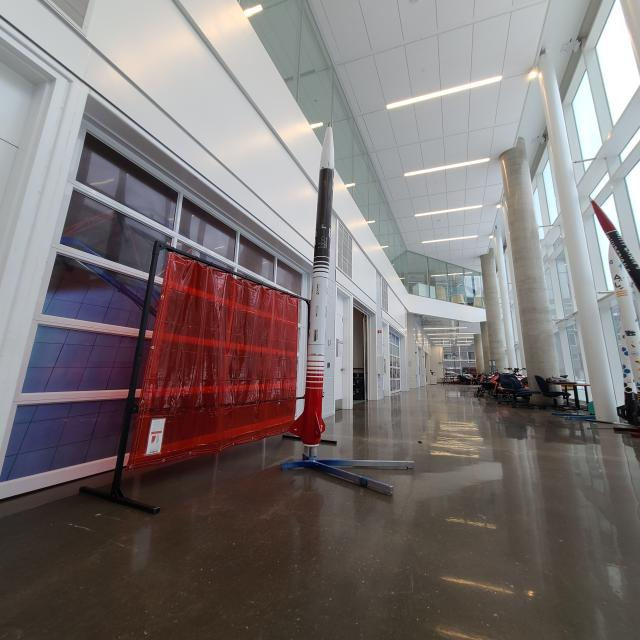Rocket: (290, 122, 335, 445)
